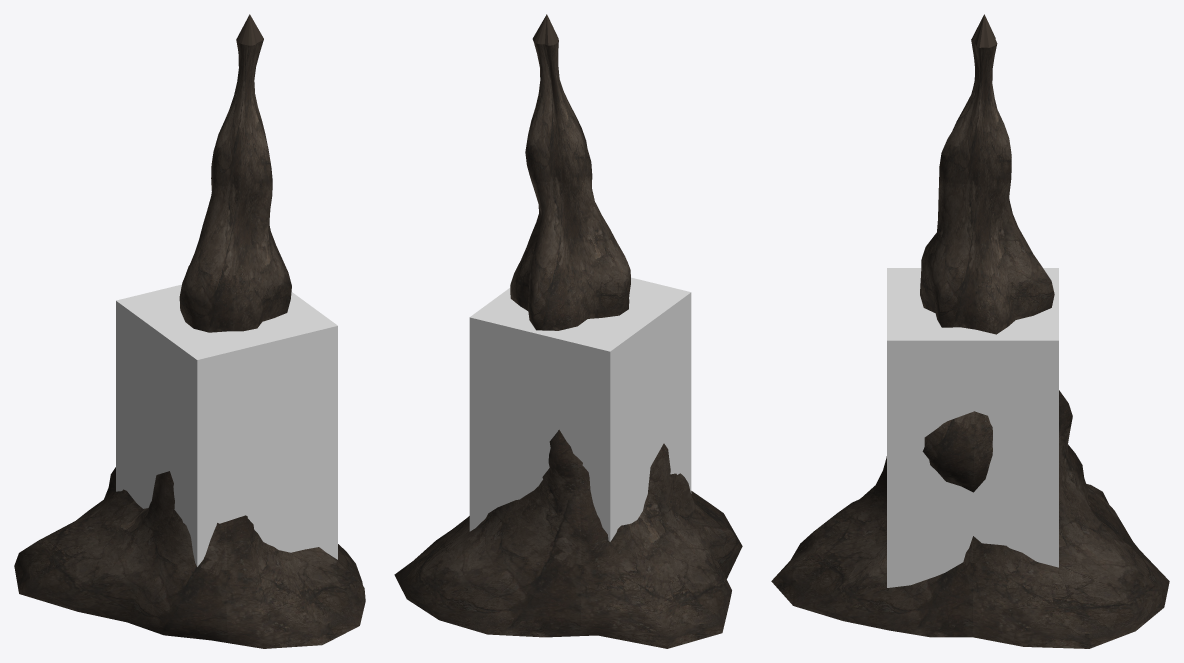
The model's file is rock_spire_bare_16m.glb.
3 renders of one model, left to right at view 1: azimuth 30°, elevation 25°; view 2: azimuth 150°, elevation 25°; view 3: azimuth 270°, elevation 25°, orthographic. The views are drawn at different scales.
Visible parts, largest first — view 1: rock_spire_bare_16m, col_block_spire; view 2: rock_spire_bare_16m, col_block_spire; view 3: rock_spire_bare_16m, col_block_spire.
Part boxes in pixels (x1,y1,x2,y2): rock_spire_bare_16m: (14, 14, 365, 648); col_block_spire: (116, 284, 337, 566); rock_spire_bare_16m: (394, 14, 742, 648); col_block_spire: (469, 277, 691, 541); rock_spire_bare_16m: (771, 14, 1169, 648); col_block_spire: (887, 268, 1058, 587).
Bounding box in the file's own units: 9.79 × 16.8 × 10.43.
1 material, 1 textured.
